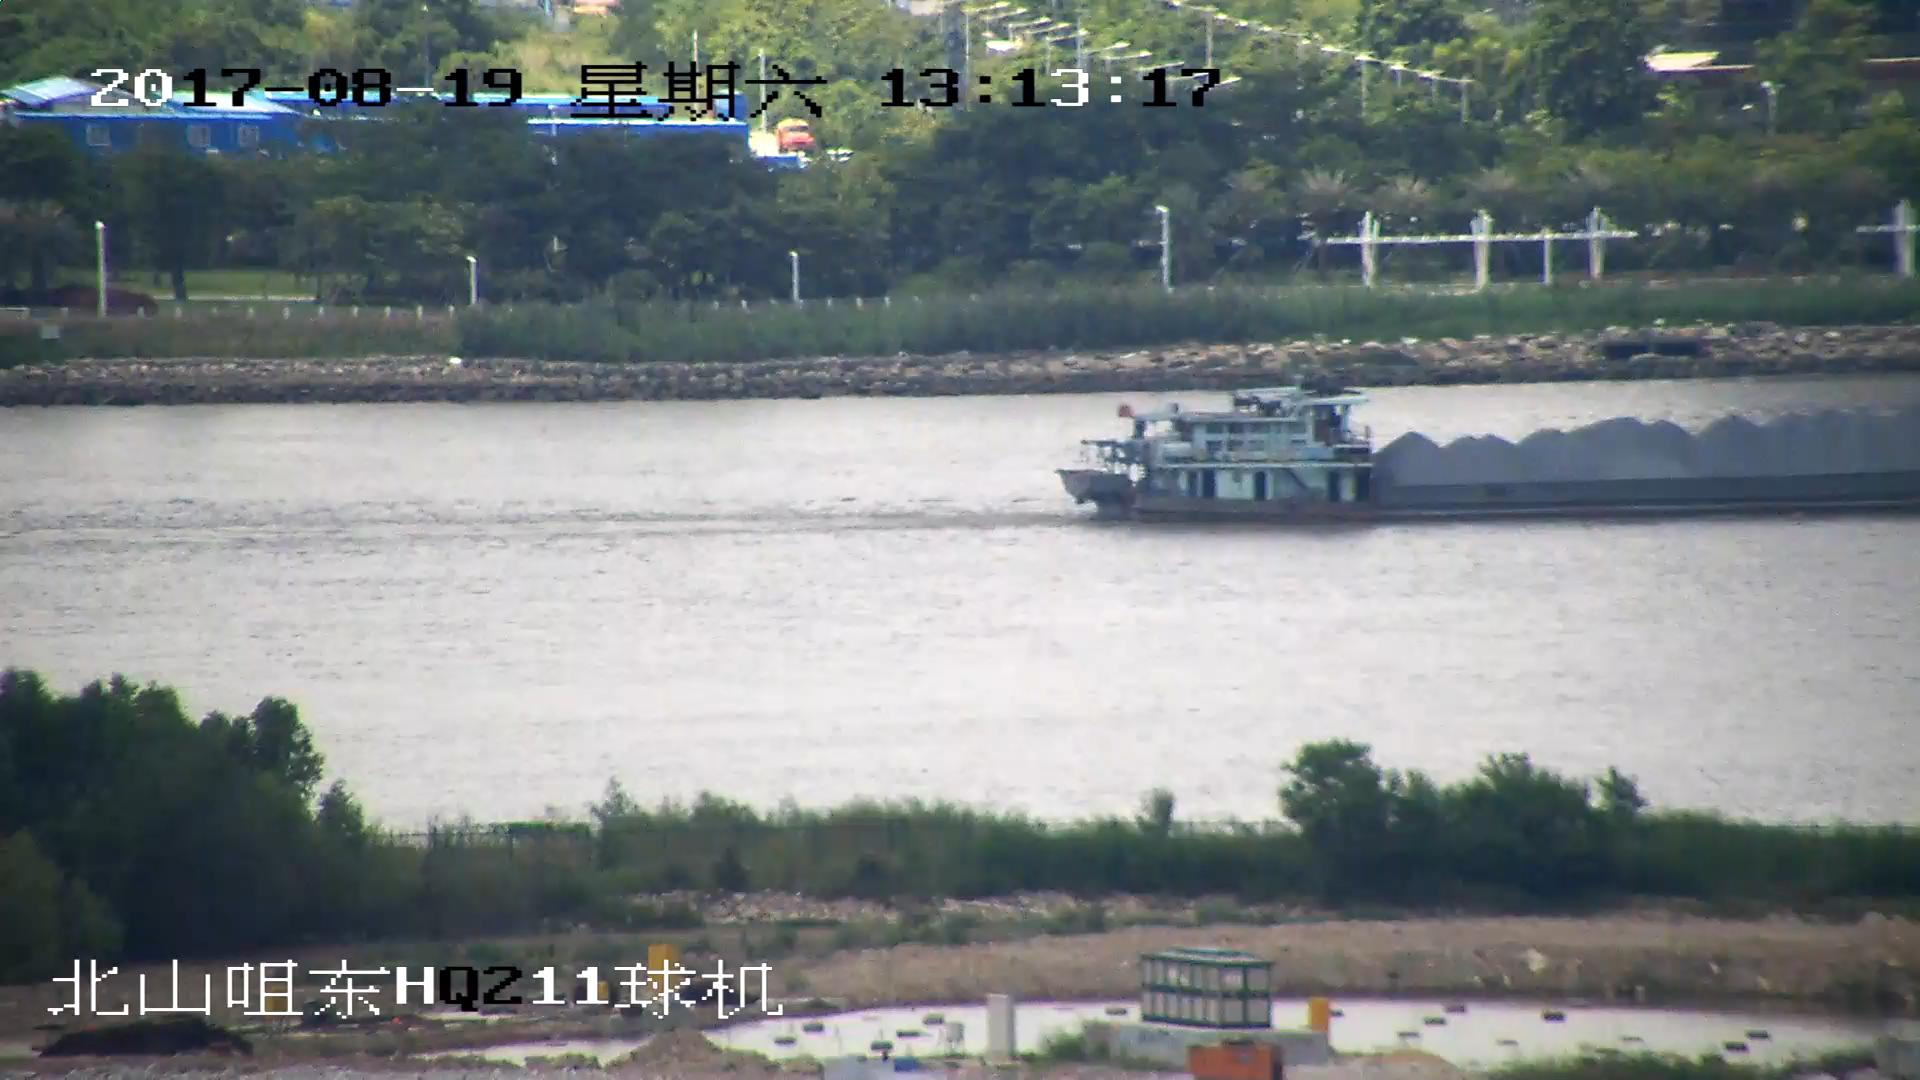ore carrier: (1054, 382, 1920, 518)
